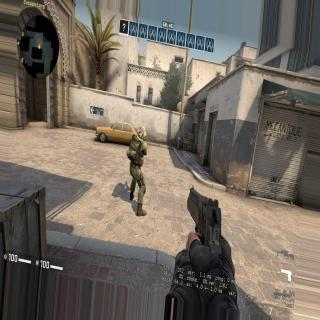CT-Body: (125, 124, 149, 198)
CT-Head: (137, 125, 146, 138)
